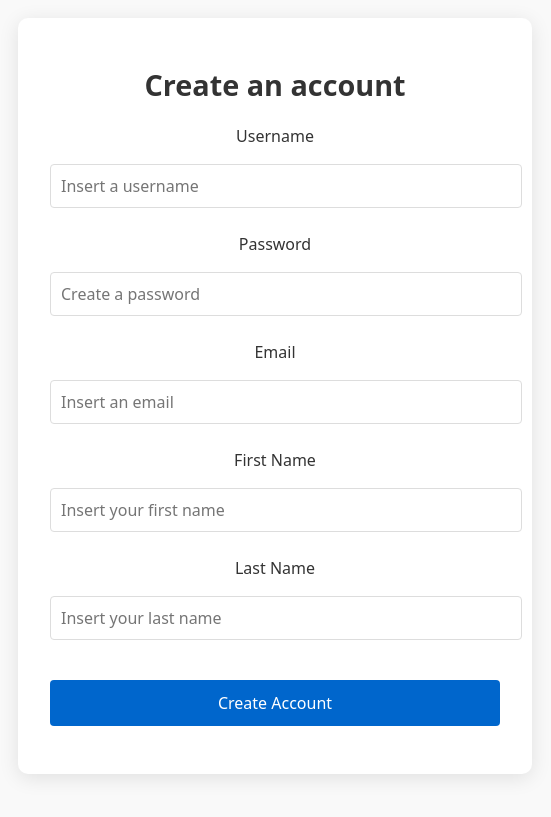
Test case: Register Component › submits form with correct data
# Fill out the form
Type "testuser" into the field labelled "Username". click: {"x": 286, "y": 186}
box: [50, 164, 522, 208]
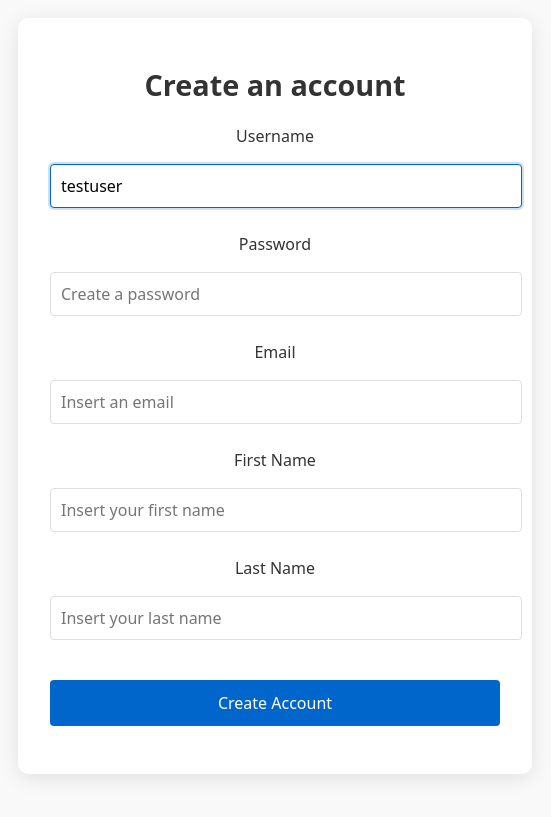
Type "password123" into the password field labelled "Password". click: {"x": 286, "y": 294}
box: [50, 272, 522, 316]
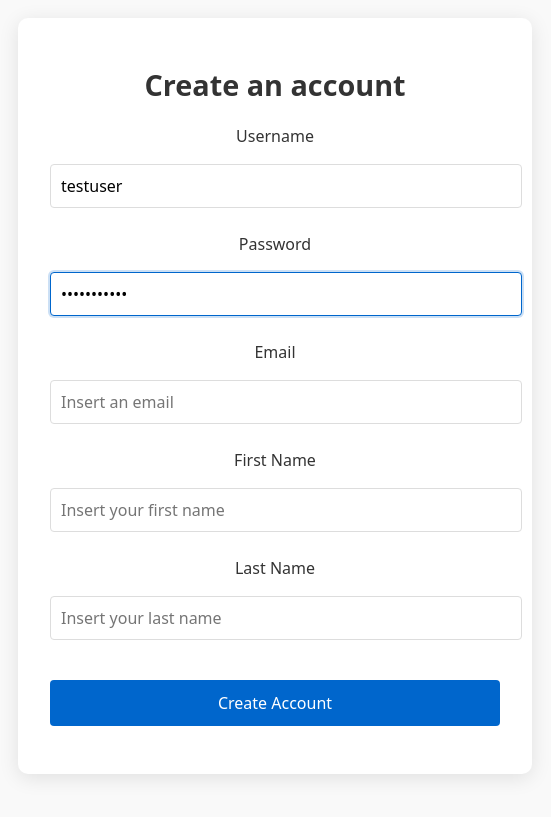
Type "test@example.com" into the field labelled "Email". click: {"x": 286, "y": 402}
box: [50, 380, 522, 424]
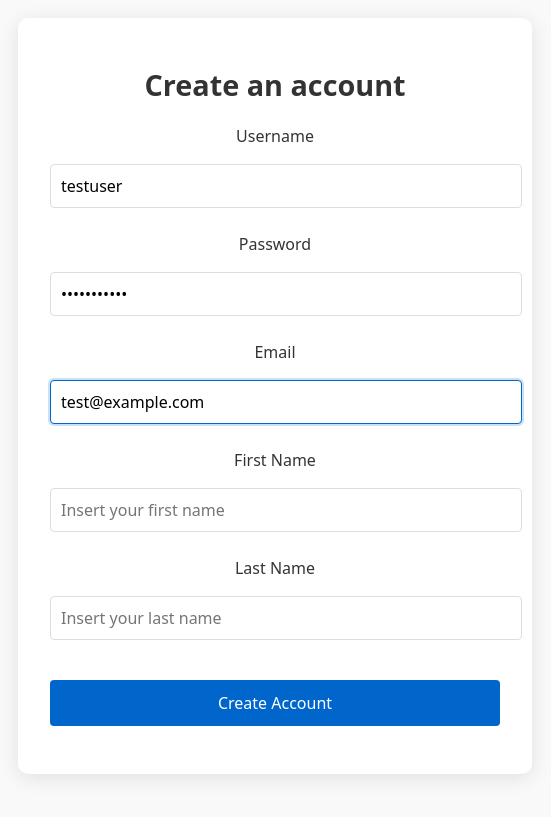
Type "John" into the field labelled "First Name". click: {"x": 286, "y": 510}
box: [50, 488, 522, 532]
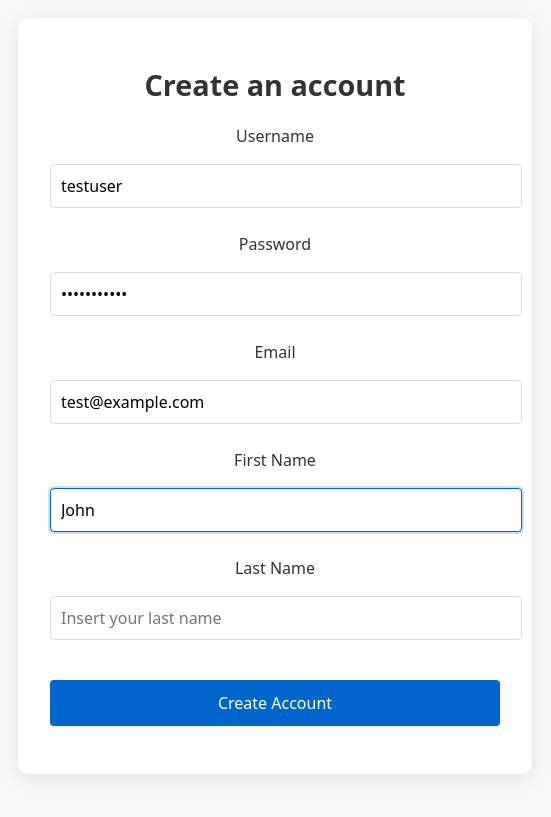
Type "Doe" into the field labelled "Last Name". click: {"x": 286, "y": 618}
box: [50, 596, 522, 640]
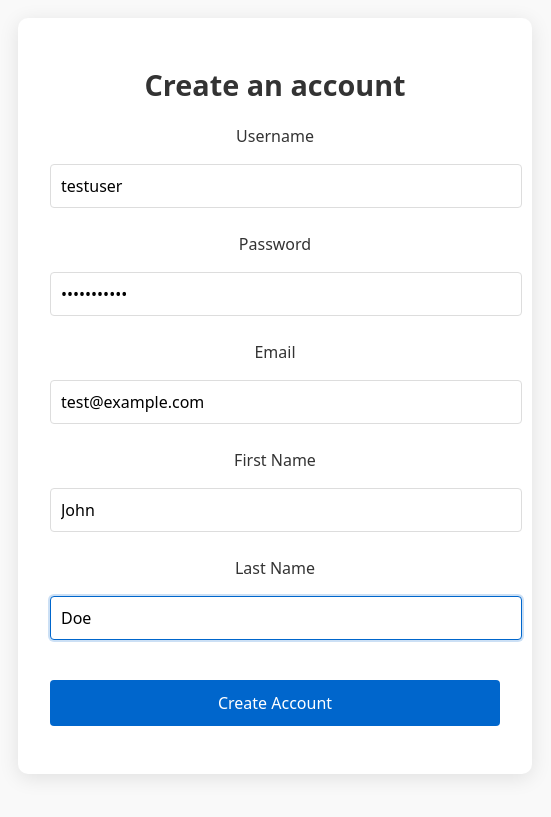
# Submit the form
Click the button "Create Account". click: {"x": 275, "y": 704}
box: [50, 680, 500, 726]
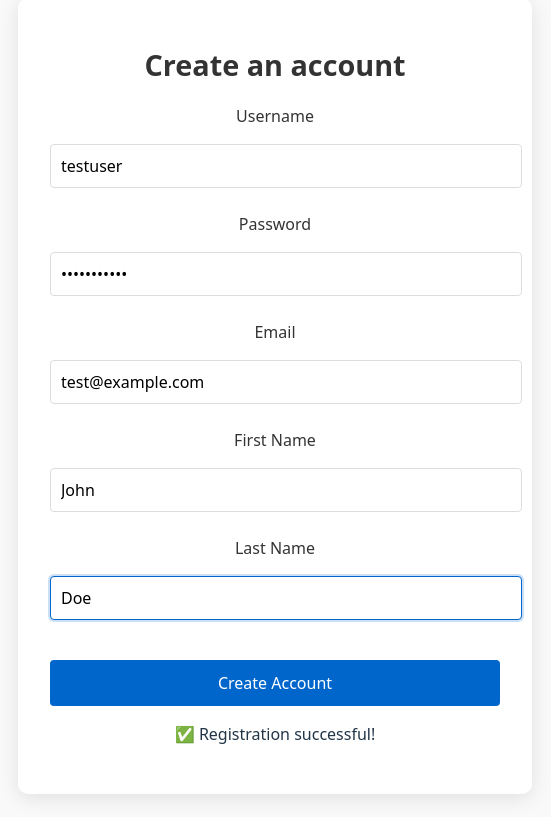
Expected: the text "✅ Registration successful!" is shown, [175, 724, 375, 746]
